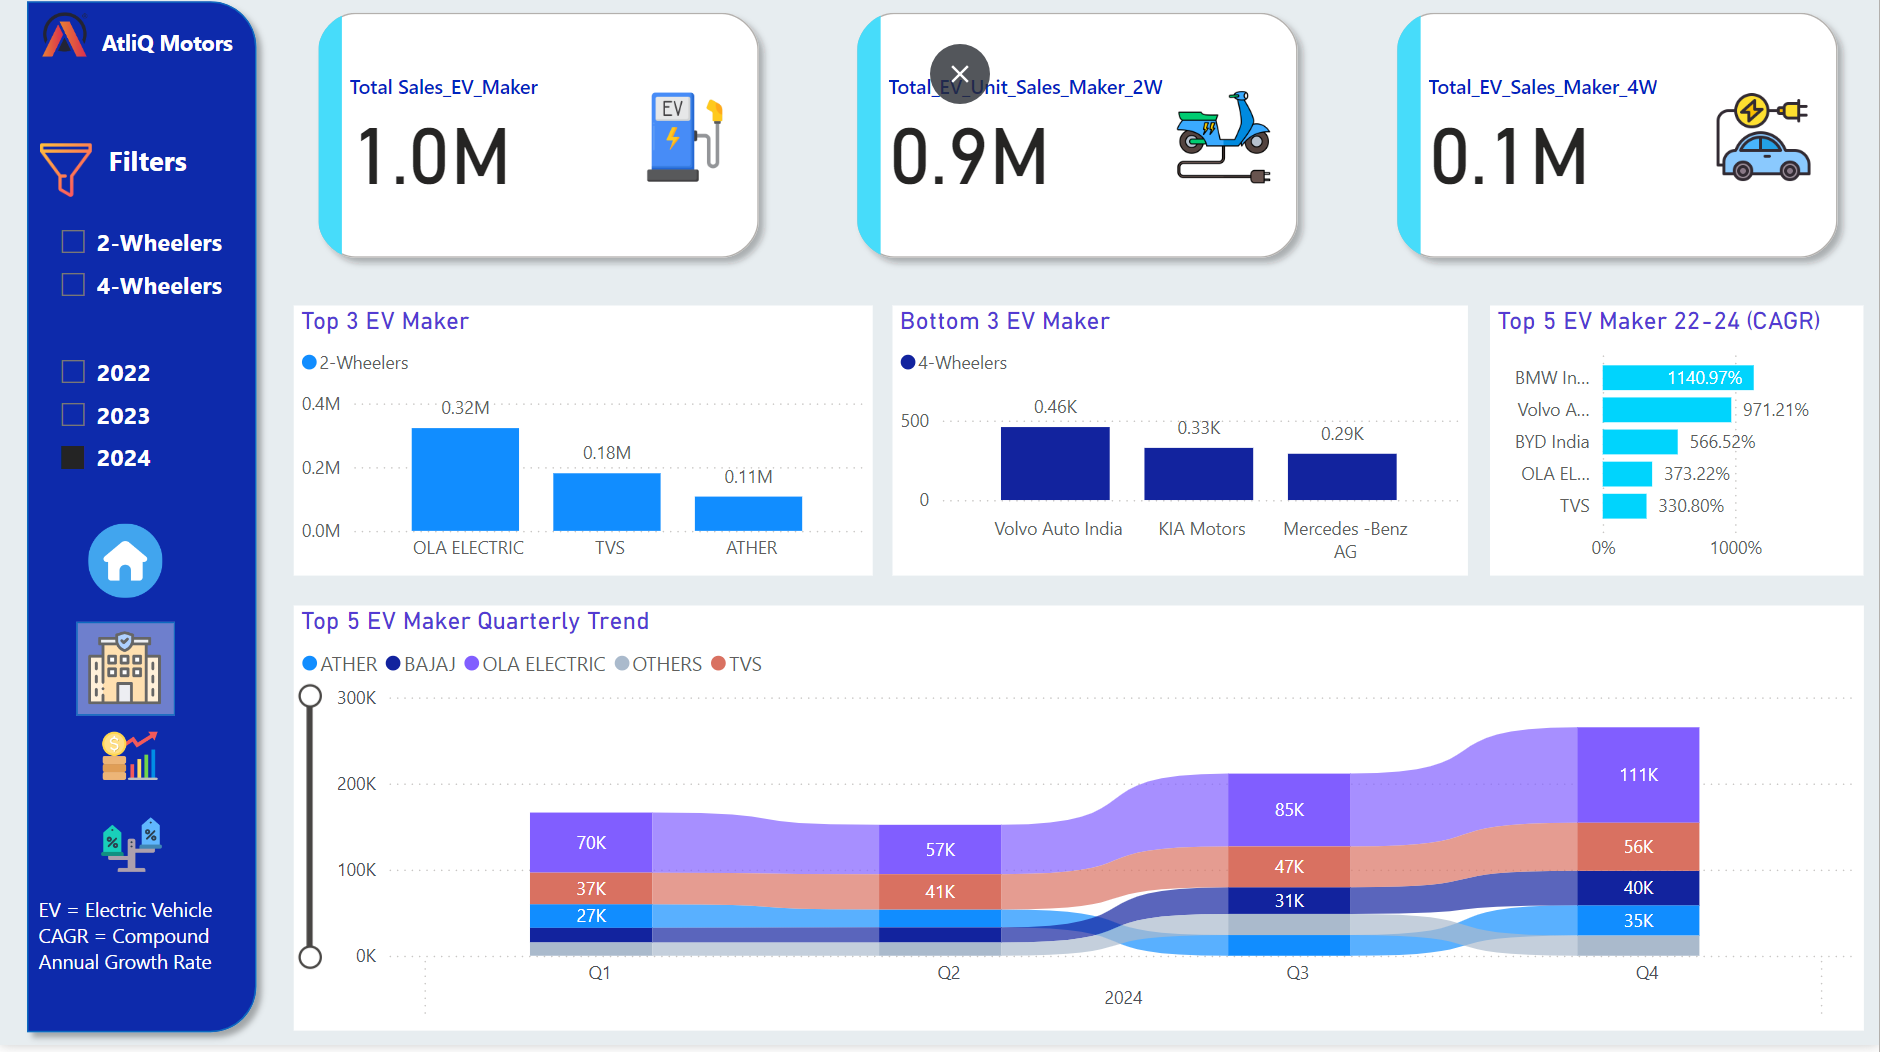

The dashboard page shown, as its layout file describes it:
{"tool":"powerbi","page":{"name":"EV_Makers","canvas":[1280,720],"ordinal":2},"visuals":[{"type":"shape","box":[9.6,0,174.3,720.4],"z":0},{"type":"image","box":[20.6,11,48,41.2],"z":1000},{"type":"textbox","box":[49.4,22,124.9,41.2],"z":2000},{"type":"slicer","fields":{"Values":["electric_vehicle_sales_by_makers.vehicle_category"]},"box":[28.8,153.7,135.8,87.8],"z":3000},{"type":"slicer","fields":{"Values":["dim_date.fiscal_year"]},"box":[28.8,241.5,135.8,100.2],"z":4000},{"type":"textbox","box":[68.6,100,96.5,53.5],"z":5000},{"type":"image","box":[55.1,360.5,60,60],"z":6000},{"type":"image","box":[54.7,493,68.6,60.5],"z":7000},{"type":"image","box":[54.7,433.7,60.5,59.3],"z":8000},{"type":"columnChart","title":"Top 3 EV Maker","fields":{"Category":["electric_vehicle_sales_by_makers.maker"],"Series":["electric_vehicle_sales_by_makers.vehicle_category"],"Y":["Key Measures.Total Sales_EV_Maker"]},"box":[200,216.3,394.2,183.7],"z":9000},{"type":"shape","box":[52.3,431.4,67.4,64],"z":10000},{"type":"columnChart","title":"Bottom 3 EV Maker","fields":{"Category":["electric_vehicle_sales_by_makers.maker"],"Series":["electric_vehicle_sales_by_makers.vehicle_category"],"Y":["Key Measures.Total Sales_EV_Maker"]},"box":[608.1,216.3,391.9,183.7],"z":11000},{"type":"ribbonChart","title":"Top 5 EV Maker Quarterly Trend ","fields":{"Y":["Key Measures.Total Sales_maker"],"Series":["electric_vehicle_sales_by_makers.maker"],"Category":["dim_date.fiscal_year","dim_date.quarter"]},"box":[200,420.9,1069.8,289.5],"z":12000},{"type":"barChart","title":"Top 5 EV Maker 22-24 (CAGR)","fields":{"Category":["electric_vehicle_sales_by_makers.maker"],"Y":["Key Measures.cagr_22-24_EV"]},"box":[1015.1,216.3,254.7,183.7],"z":13000},{"type":"cardVisual","title":"Total_EV_Sales","fields":{"Data":["Key Measures.Total Sales_maker"]},"box":[200,0,334.9,201.2],"z":14000},{"type":"cardVisual","fields":{"Data":["Key Measures.Total_EV_Sales_2W"]},"box":[567.4,0,334.9,201.2],"z":15000},{"type":"cardVisual","fields":{"Data":["Key Measures.Total_EV_Sales_4W"]},"box":[934.9,0,334.9,201.2],"z":16000},{"type":"textbox","box":[20.9,614,144.2,82.6],"z":17000},{"type":"image","box":[20.9,100,47.7,48.8],"z":18000},{"type":"image","box":[59.3,553.5,60.5,60.5],"z":19000}]}

Visuals, with their boxes on the page's 1280x720 design canvas (x1, y1, x2, y2). These are canvas units, not pixel positions in the 1882x1052 screenshot, which may show the page scaled, cropped or inside an application window:
shape: {"x1": 10, "y1": 0, "x2": 184, "y2": 720}
image: {"x1": 21, "y1": 11, "x2": 69, "y2": 52}
textbox: {"x1": 49, "y1": 22, "x2": 174, "y2": 63}
slicer - electric_vehicle_sales_by_makers.vehicle_category: {"x1": 29, "y1": 154, "x2": 165, "y2": 242}
slicer - dim_date.fiscal_year: {"x1": 29, "y1": 242, "x2": 165, "y2": 342}
textbox: {"x1": 69, "y1": 100, "x2": 165, "y2": 154}
image: {"x1": 55, "y1": 360, "x2": 115, "y2": 420}
image: {"x1": 55, "y1": 493, "x2": 123, "y2": 554}
image: {"x1": 55, "y1": 434, "x2": 115, "y2": 493}
"Top 3 EV Maker" columnChart: {"x1": 200, "y1": 216, "x2": 594, "y2": 400}
shape: {"x1": 52, "y1": 431, "x2": 120, "y2": 495}
"Bottom 3 EV Maker" columnChart: {"x1": 608, "y1": 216, "x2": 1000, "y2": 400}
"Top 5 EV Maker Quarterly Trend " ribbonChart: {"x1": 200, "y1": 421, "x2": 1270, "y2": 710}
"Top 5 EV Maker 22-24 (CAGR)" barChart: {"x1": 1015, "y1": 216, "x2": 1270, "y2": 400}
"Total_EV_Sales" cardVisual: {"x1": 200, "y1": 0, "x2": 535, "y2": 201}
cardVisual - Key Measures.Total_EV_Sales_2W: {"x1": 567, "y1": 0, "x2": 902, "y2": 201}
cardVisual - Key Measures.Total_EV_Sales_4W: {"x1": 935, "y1": 0, "x2": 1270, "y2": 201}
textbox: {"x1": 21, "y1": 614, "x2": 165, "y2": 697}
image: {"x1": 21, "y1": 100, "x2": 69, "y2": 149}
image: {"x1": 59, "y1": 554, "x2": 120, "y2": 614}
